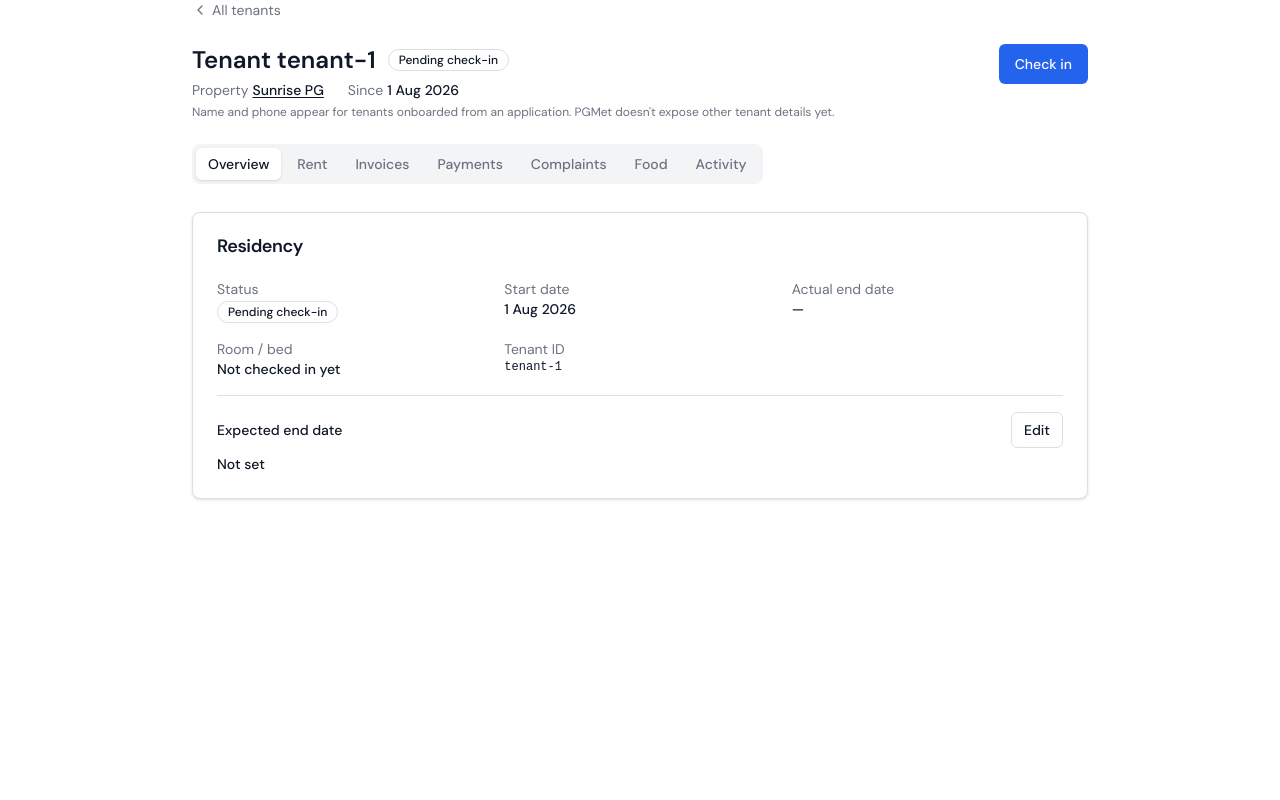
Test: ResidencyDetailPage — Tenant 360 › surfaces a 409 BED_ALREADY_OCCUPIED on the bed field with an actionable message
Click the button "Check in" at coordinates (1043, 64), box [999,44,1088,84]
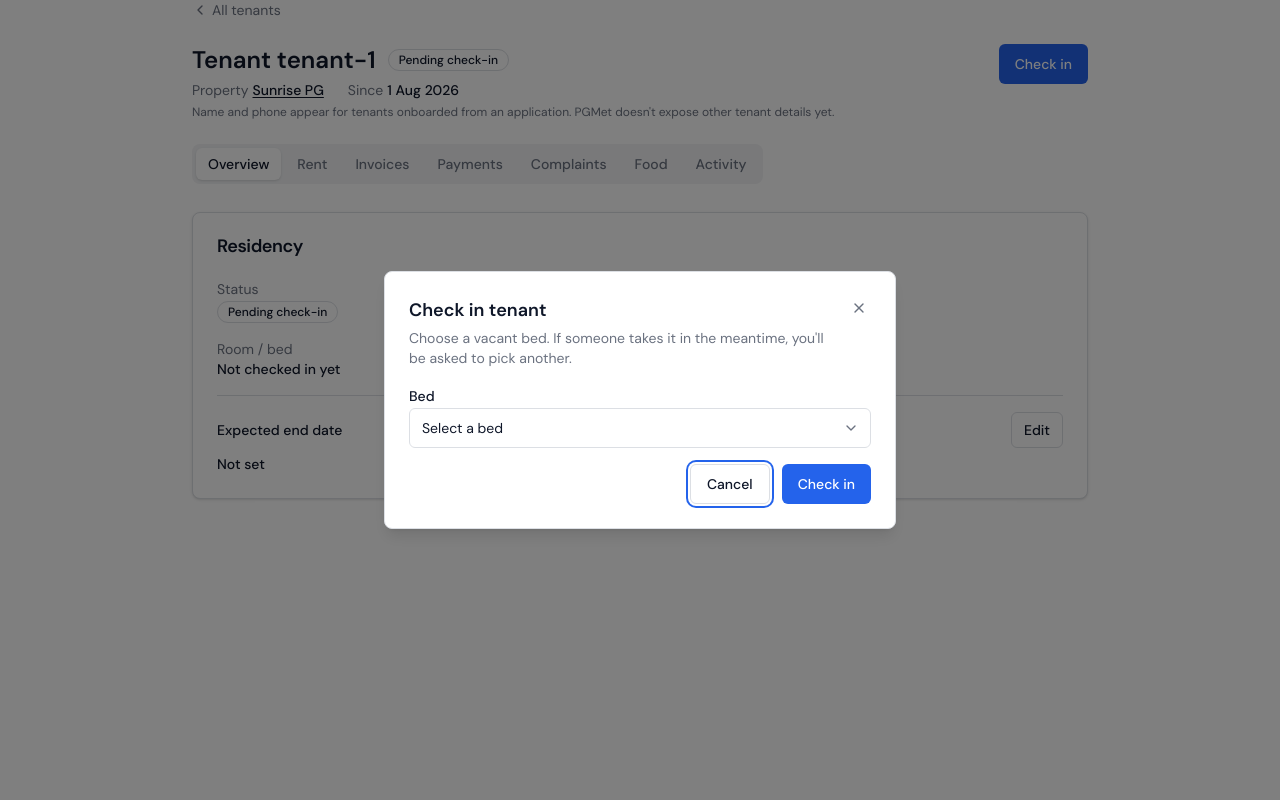
Select "Room 204 — Bed B" in the dropdown labelled "Bed" at coordinates (640, 428), box [409,408,871,448]
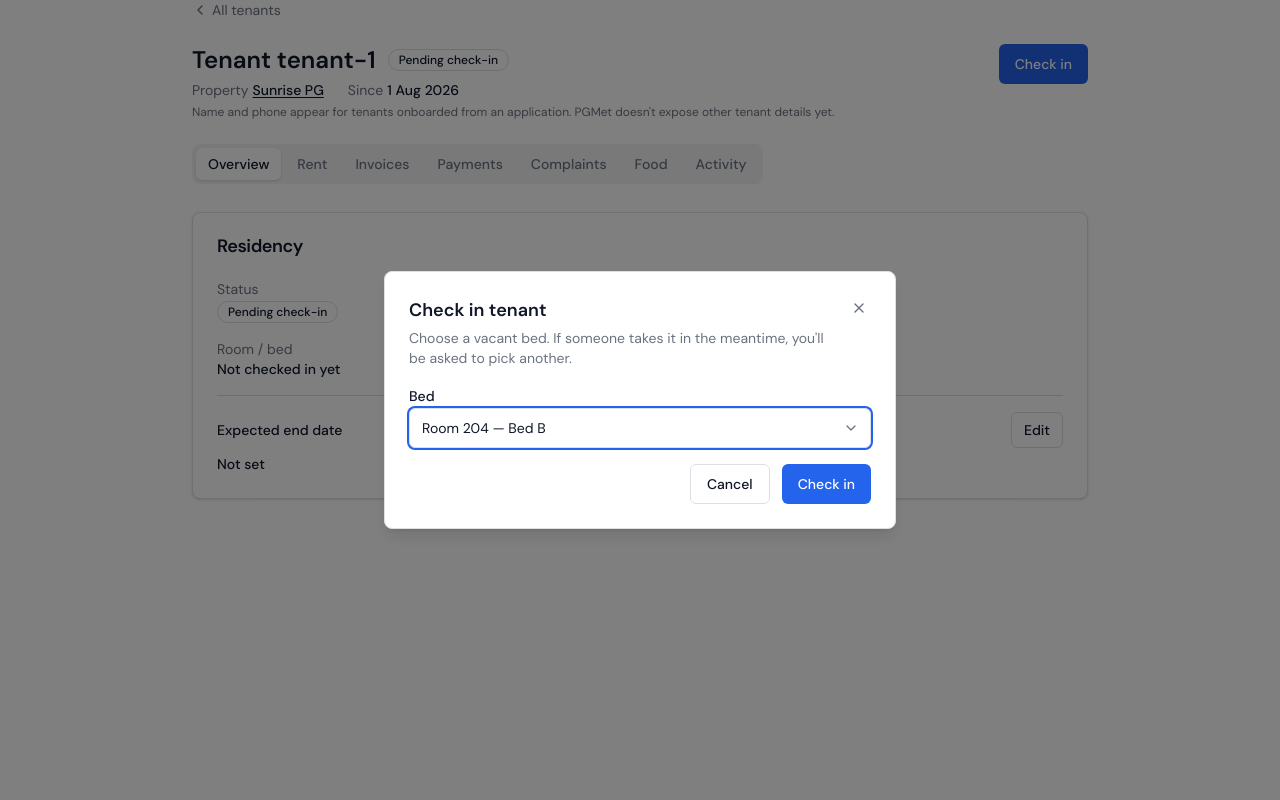
Click the button "Check in" at coordinates (826, 484), box [782,464,871,504]
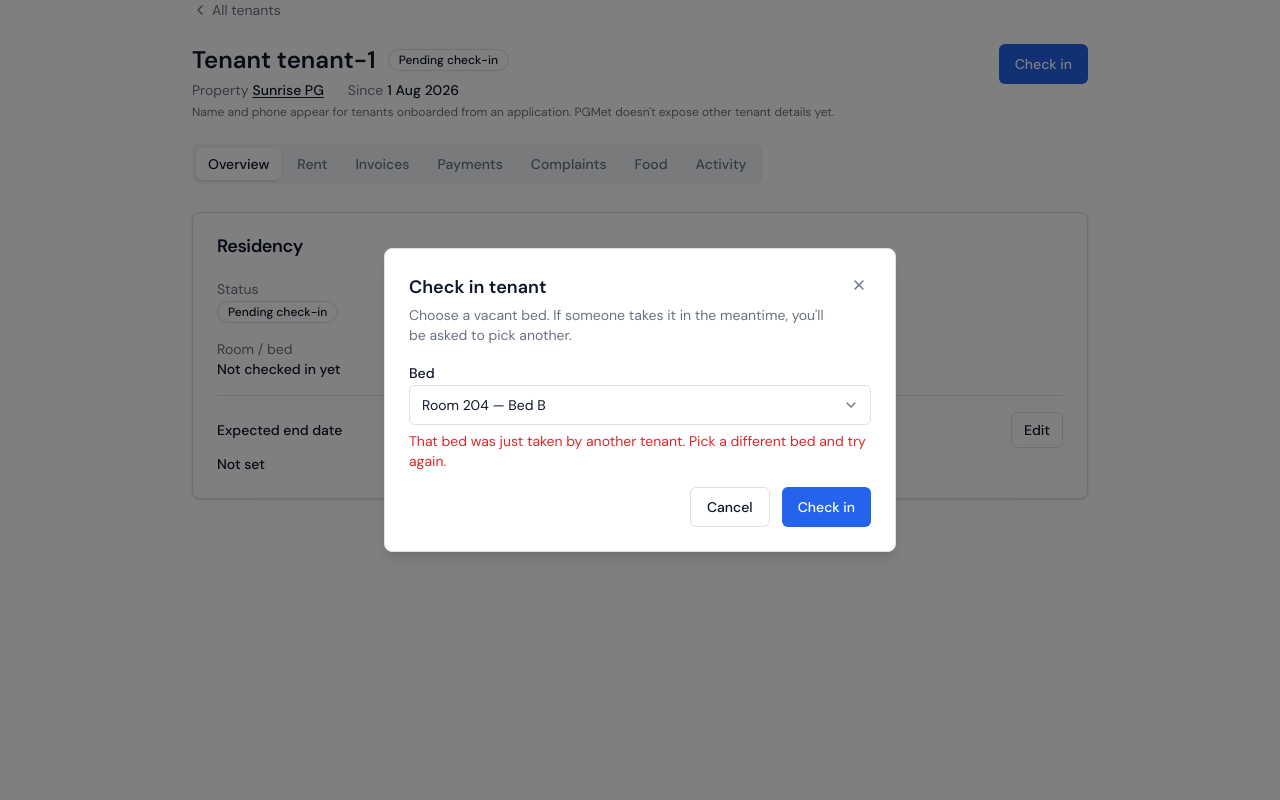
Expected: the dialog "Check in tenant" is shown, [384,248,896,552]
Expected: the message shows "Pick a different bed", [409,432,866,470]
